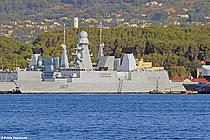MIL_Ship: (7, 26, 185, 94)
